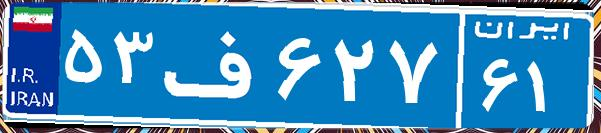1: (525, 38, 570, 115)
2: (330, 28, 385, 110)
3: (110, 28, 158, 105)
5: (57, 26, 110, 107)
6: (273, 28, 330, 110), (475, 38, 525, 113)
7: (385, 28, 445, 110)
ف: (158, 15, 273, 115)
